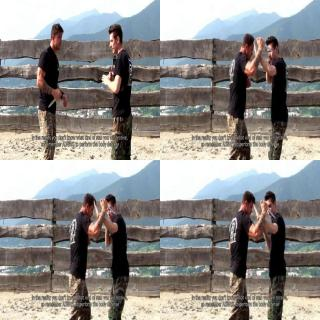knife: (260, 199, 276, 219), (47, 88, 62, 108), (100, 197, 116, 215), (256, 36, 273, 52)
